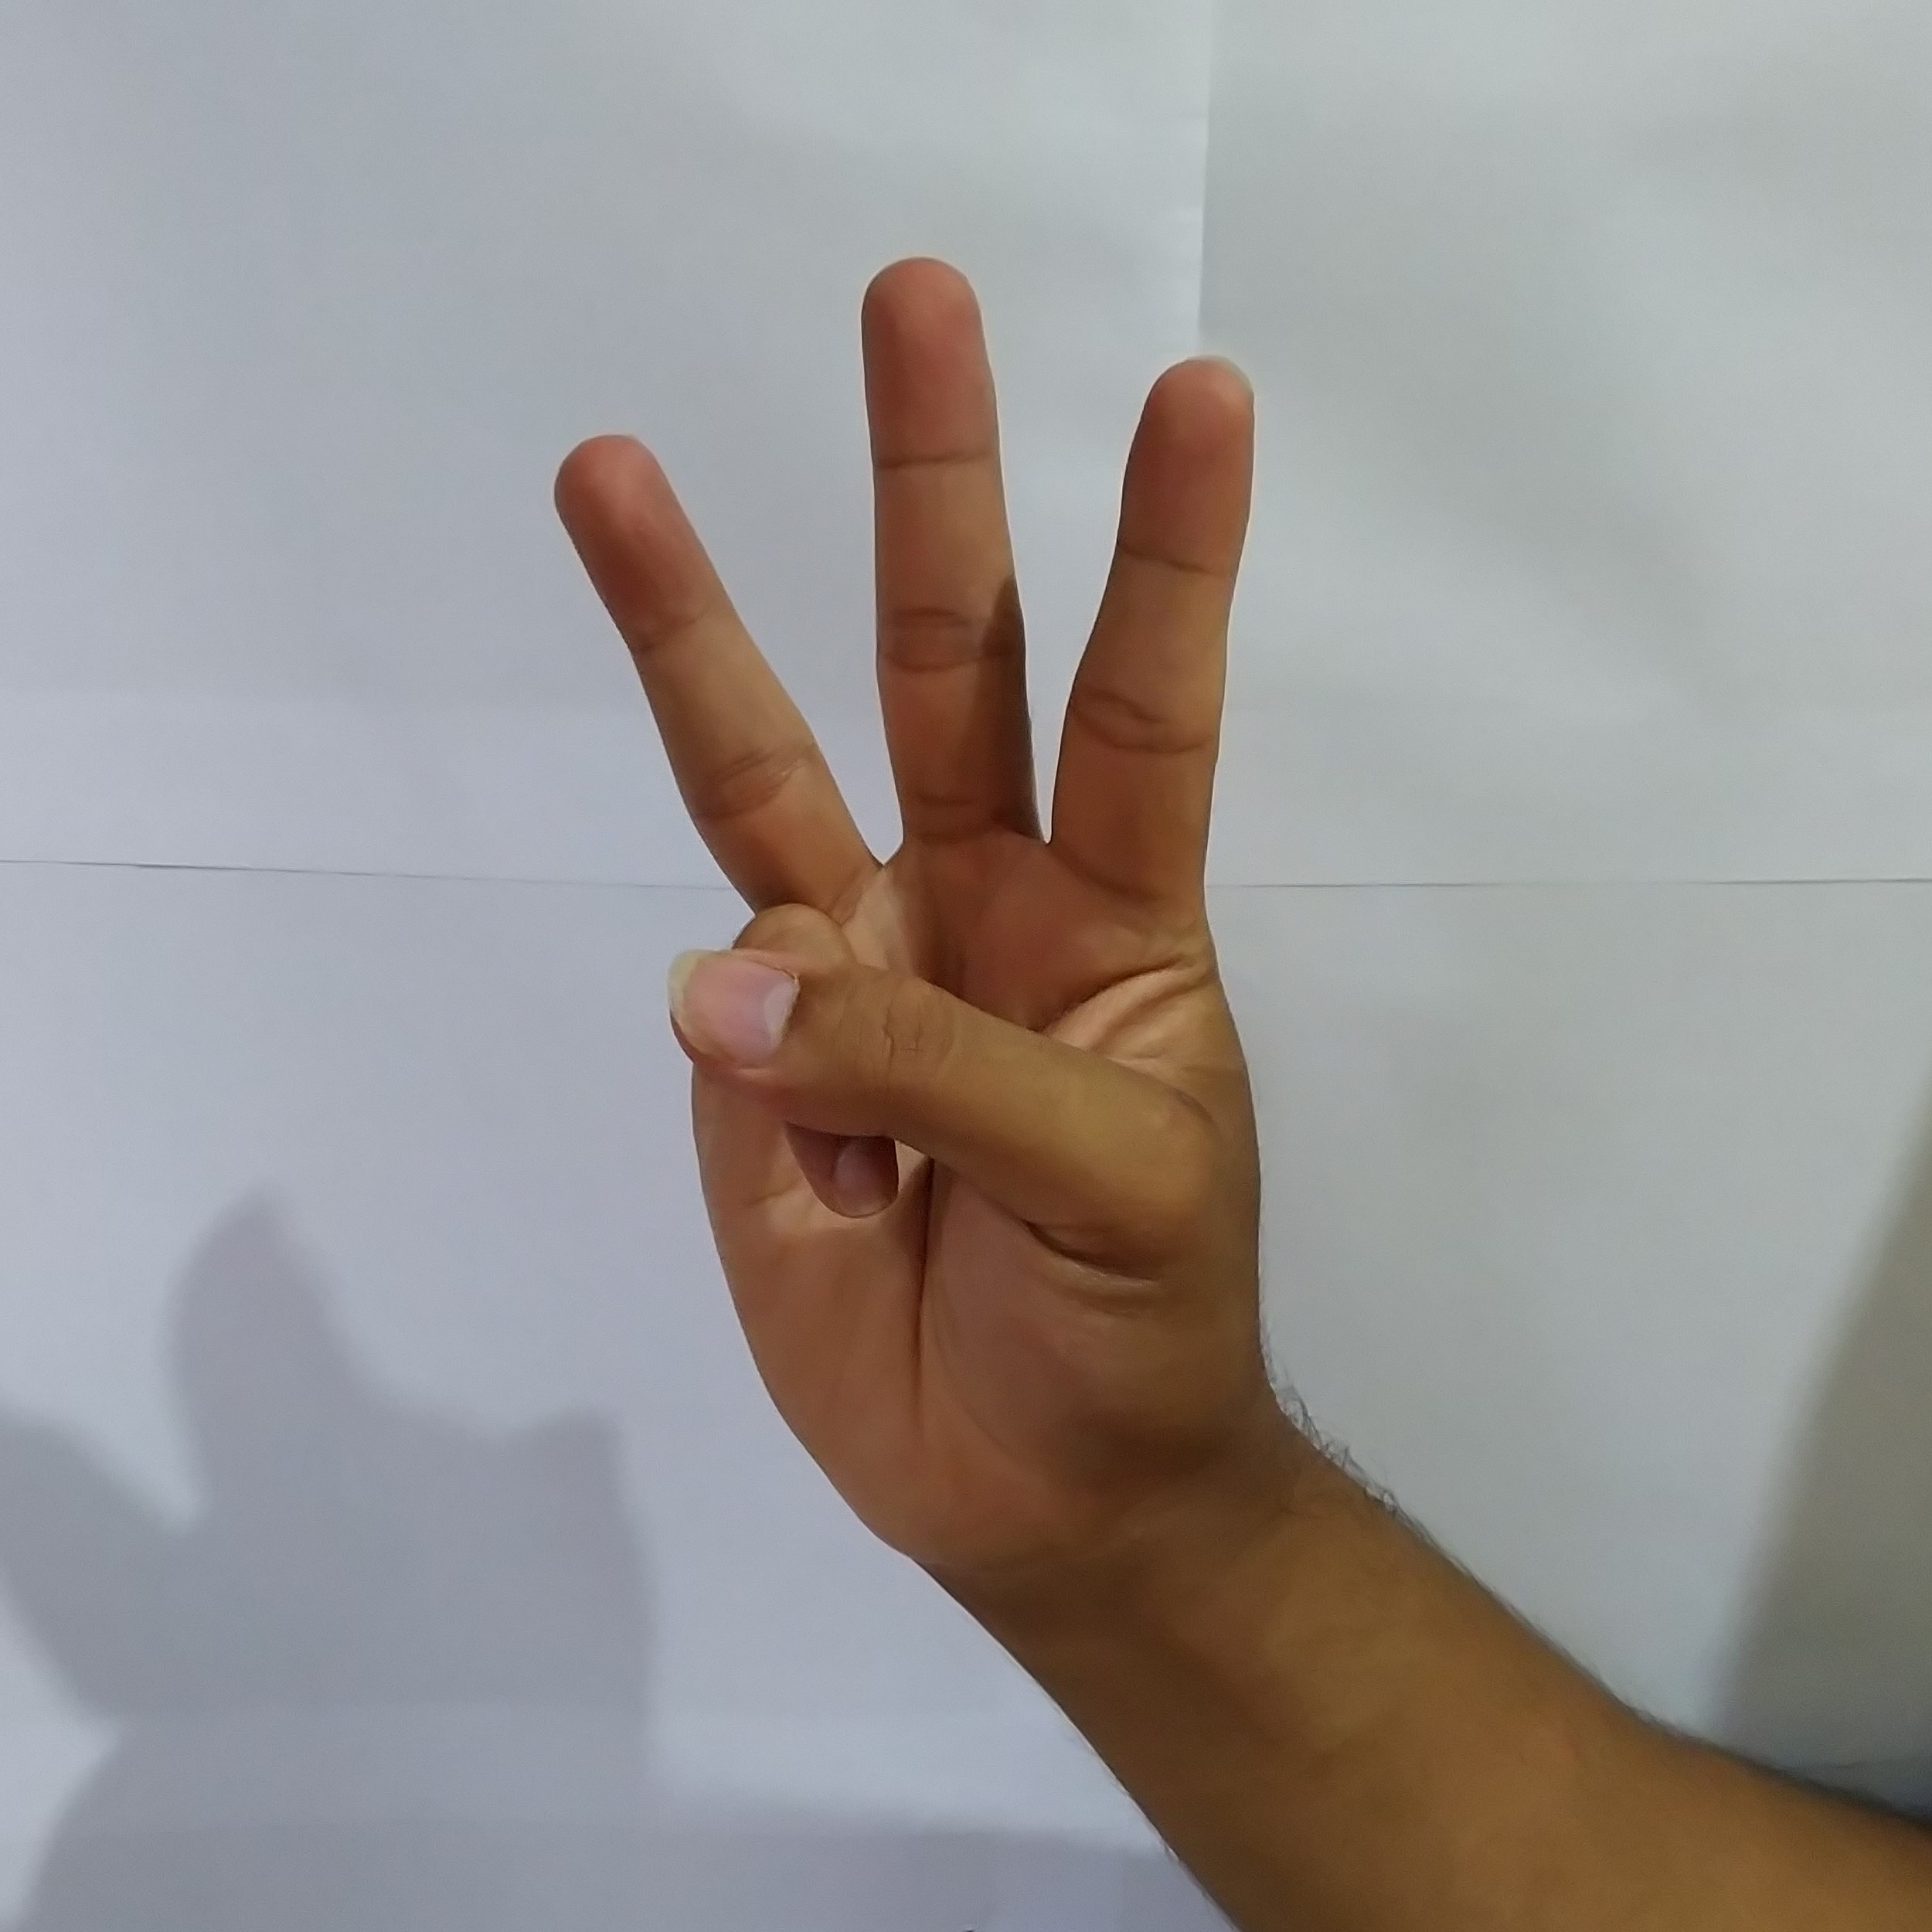W: (525, 232, 1389, 1523)
